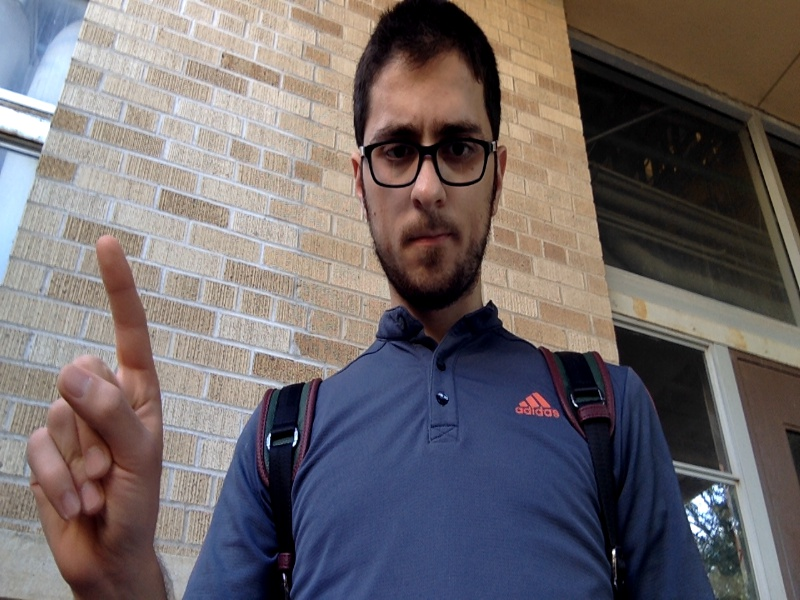1-hand: (29, 233, 162, 592)
